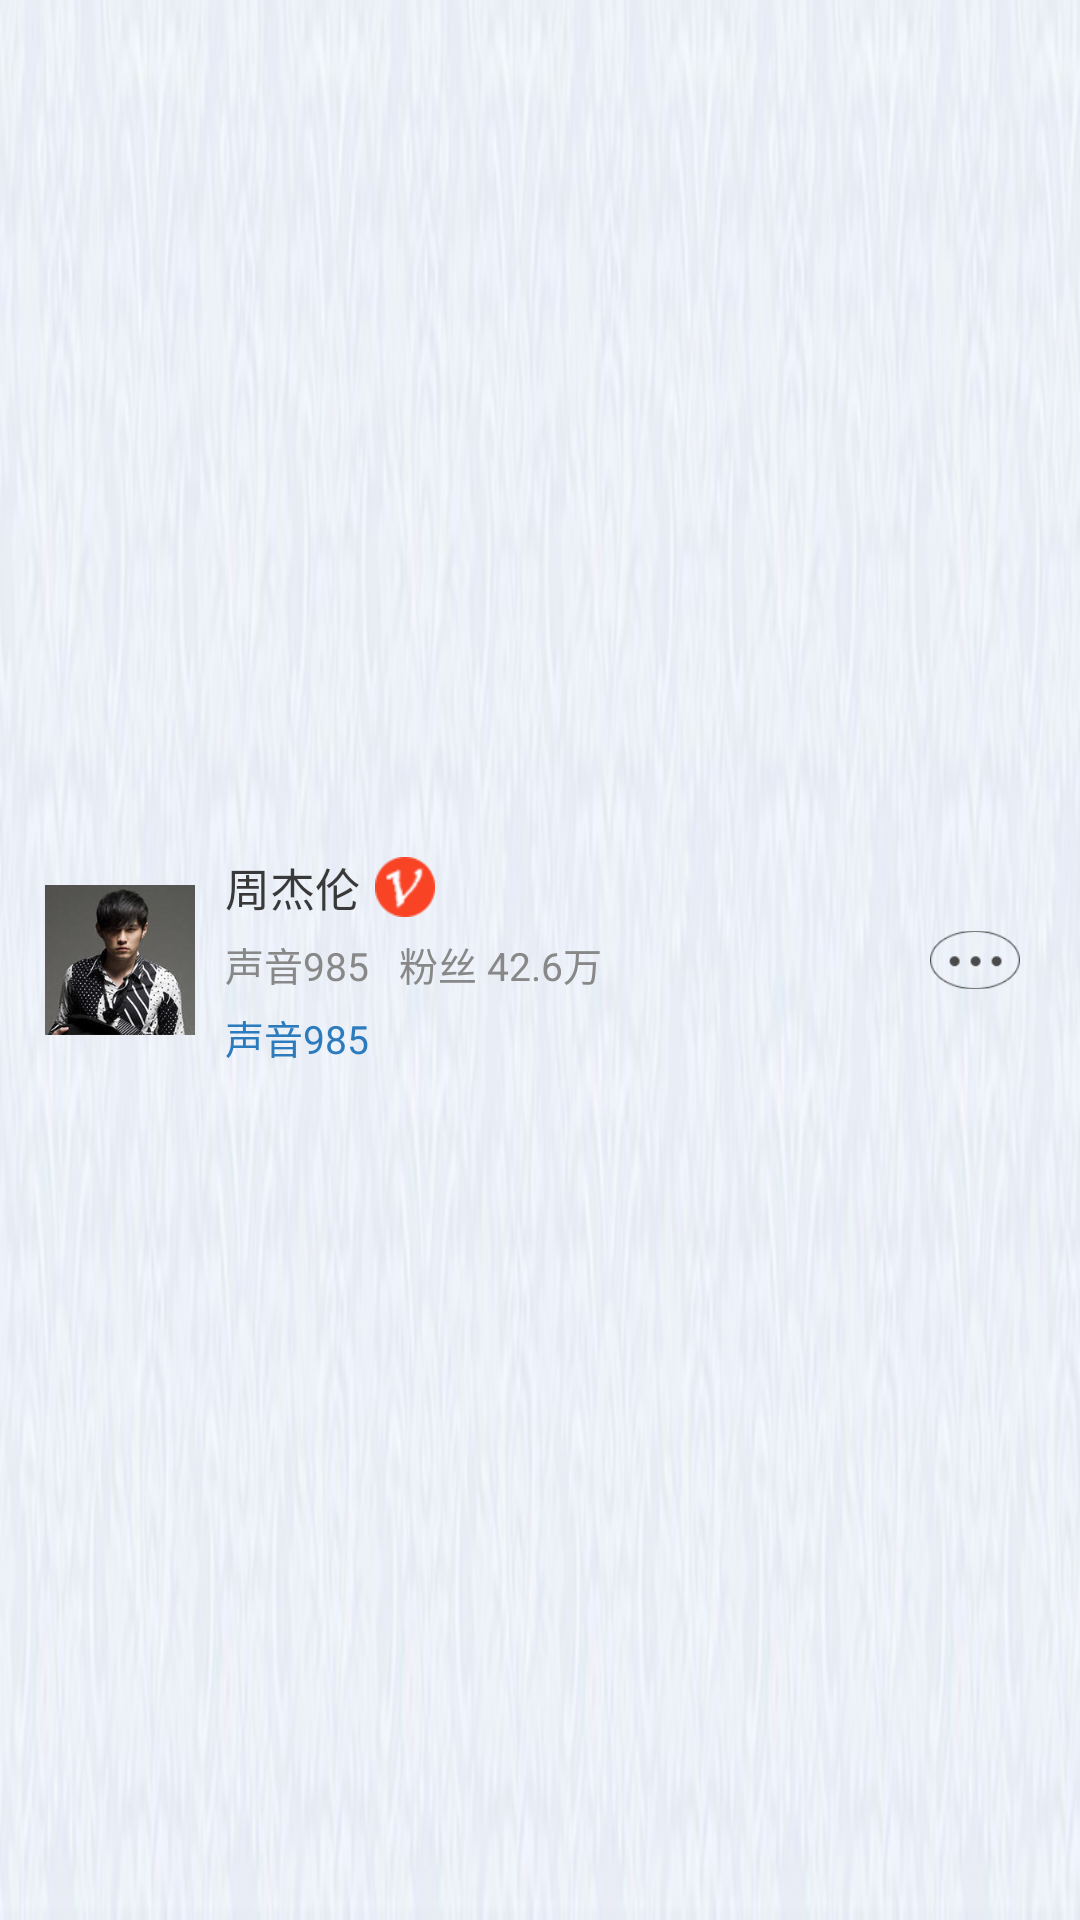

Locate icon controls on the screen. Image size 1080w x 1920h, boxes as (x1, y1, x2, y2).
guanzhu msg: (930, 931, 1020, 989)
